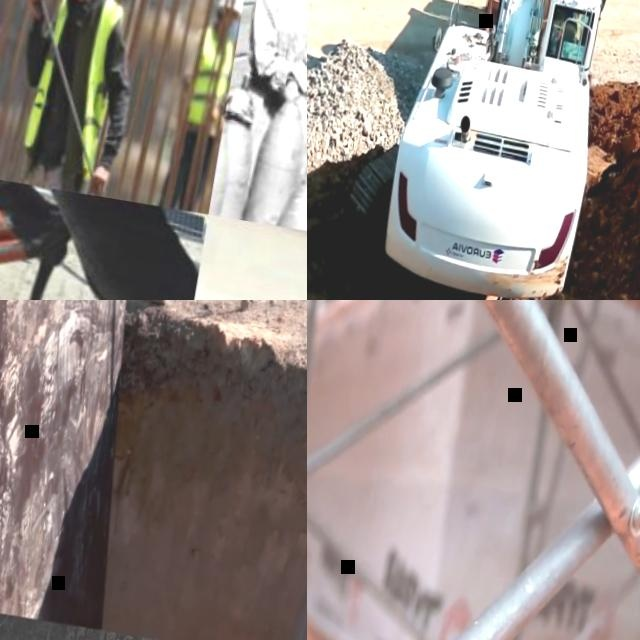Hardhat: (213, 0, 244, 16)
Mask: (223, 17, 239, 43)
NO-Safety Vest: (267, 0, 307, 60)
Person: (0, 0, 156, 196), (154, 0, 243, 213), (241, 0, 307, 98)
Safety Vest: (20, 0, 127, 166), (180, 30, 236, 126)
machinery: (377, 0, 640, 300)
